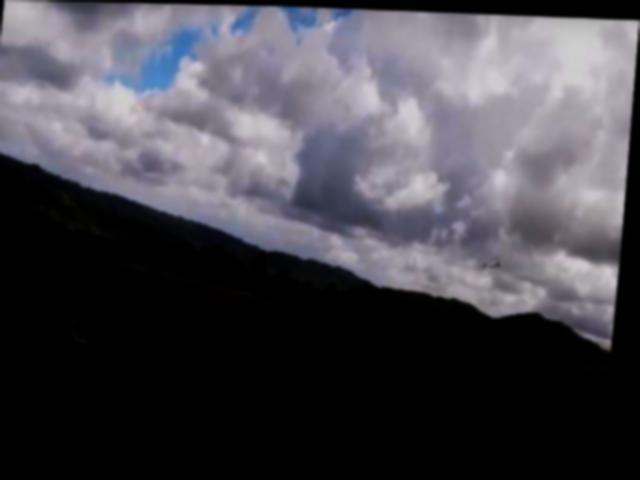iha: (485, 254, 506, 273)
